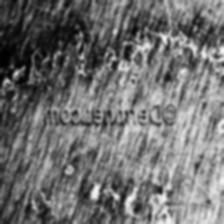Toxin: (84, 181, 107, 205), (112, 52, 134, 76)
